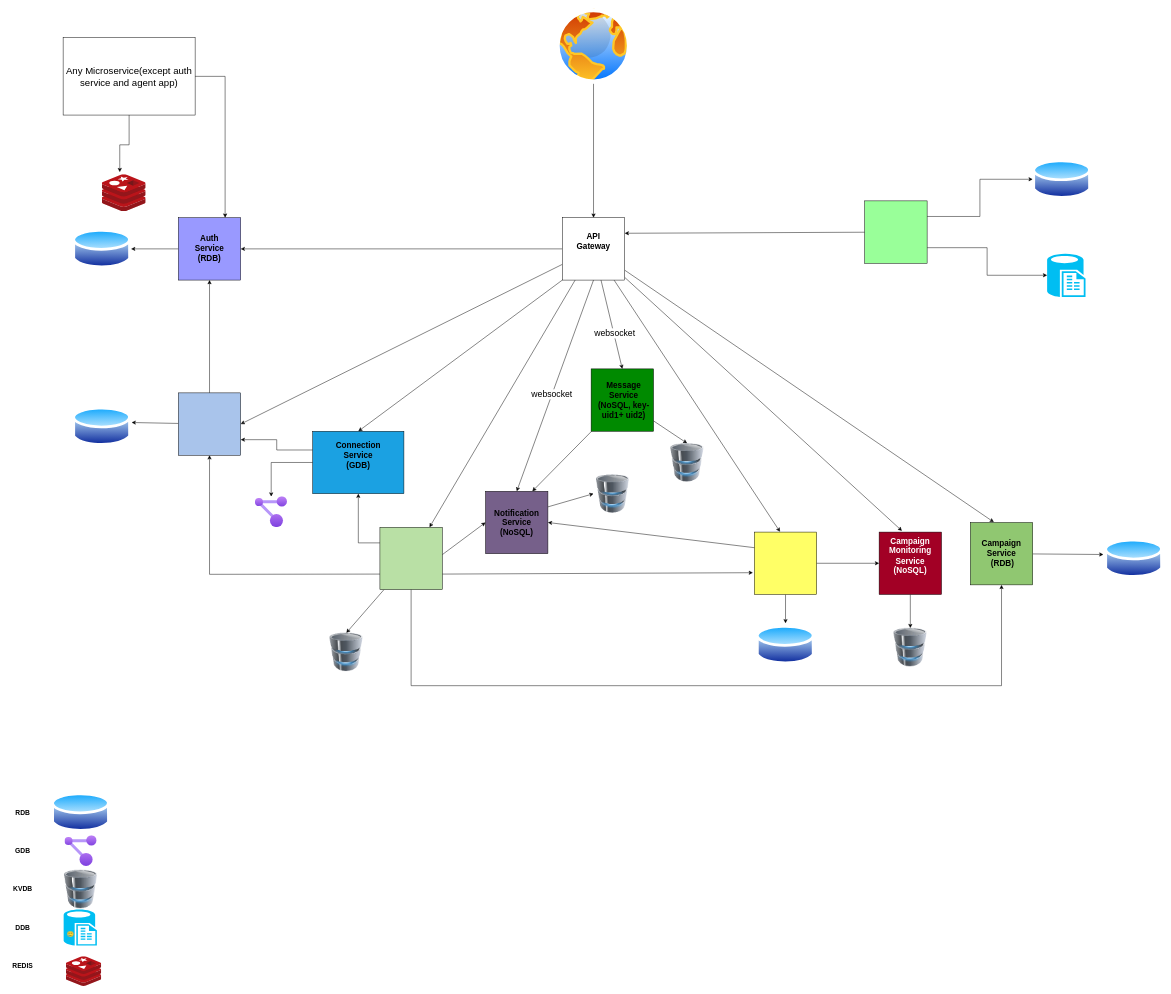
Some shapes in this 1171 by 994 pixel diagram are drawn without their labels. Each missing label, with the centre of its shape:
Agent Application (RDB + DDB): point (895, 231)
Frontend Application: point (593, 46)
Post Reaction Service (RDB): point (785, 563)
Post Service (NoSQL, key-postId): point (410, 558)
User Profile Service ( RDB ): point (209, 423)
